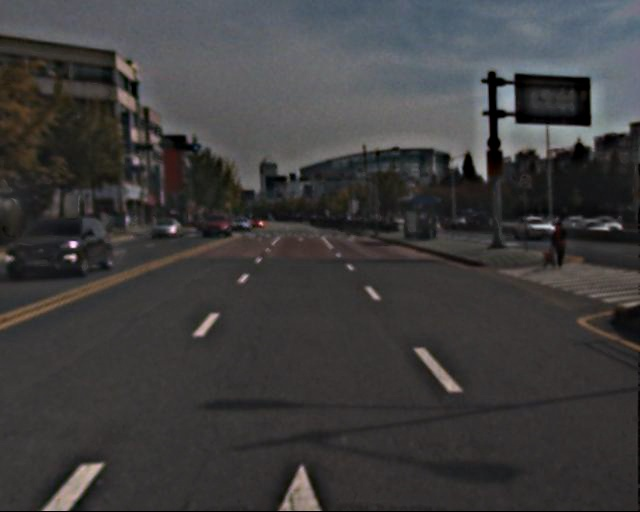person: (550, 220, 570, 270)
